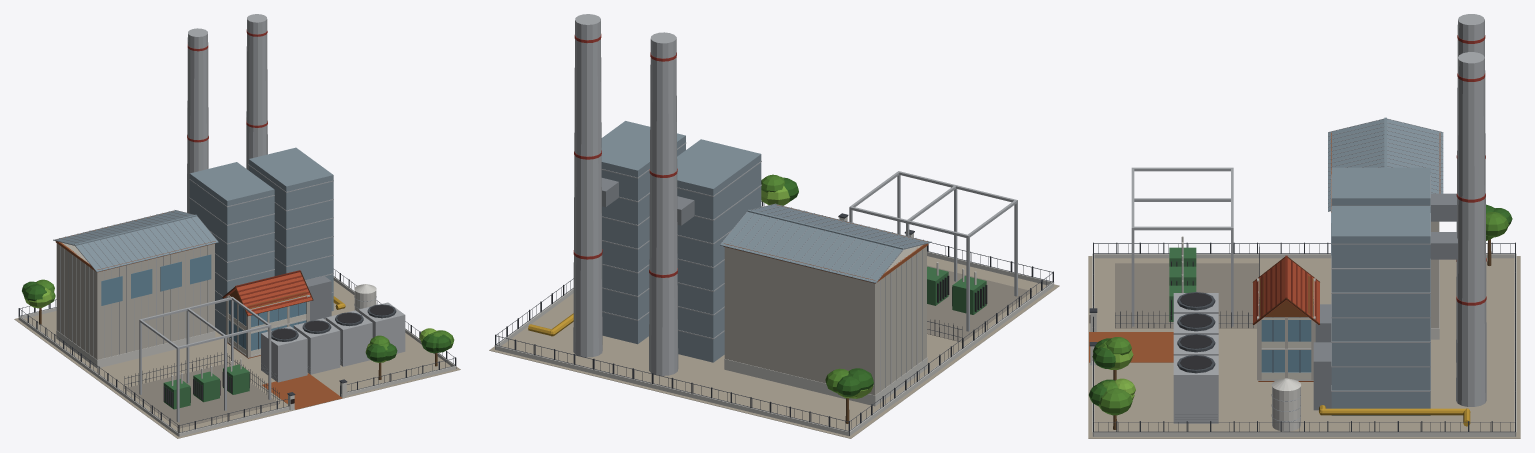
The model's file is power_plant.glb.
The picture shows the model from 3 angles, left to right: view 1: azimuth 30°, elevation 25°; view 2: azimuth 150°, elevation 25°; view 3: azimuth 270°, elevation 25°; orthographic projection. The views are drawn at different scales.
Parts seen in each view (by area): view 1: body; view 2: body; view 3: body.
Part boxes in pixels (<box>): body: <box>14,14,460,438</box>; body: <box>489,14,1059,438</box>; body: <box>1088,14,1520,438</box>.
Bounding box in the file's own units: 48.52 × 42.04 × 47.9.
